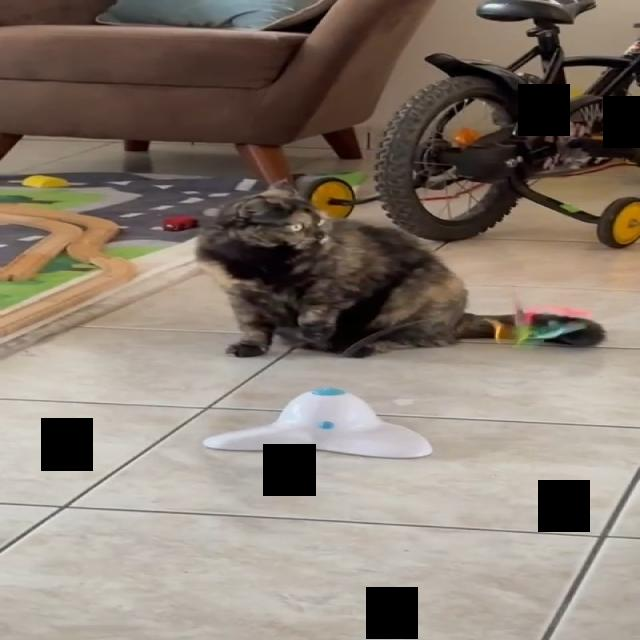authorized: (194, 180, 606, 358)
